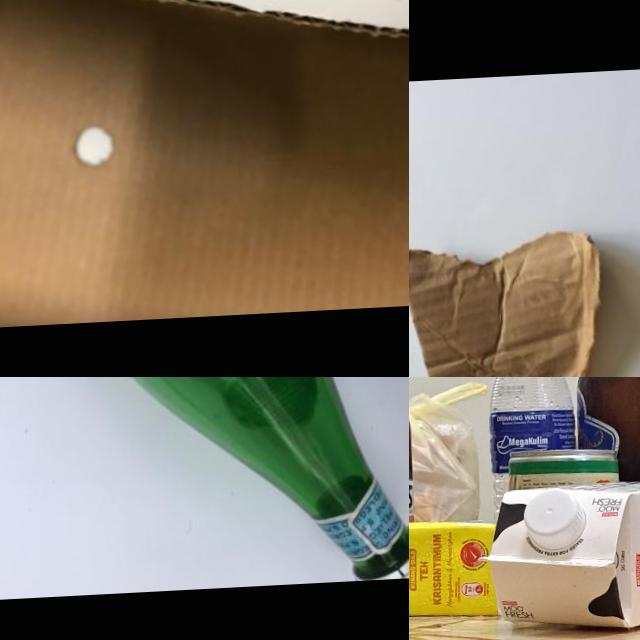caixinha: (477, 477, 640, 636), (409, 516, 501, 626)
garrafa de vidro: (0, 377, 409, 601), (566, 377, 640, 485)
garrafa plástica: (485, 377, 577, 513)
lata: (508, 445, 620, 490)
papelão: (0, 0, 409, 338), (409, 229, 612, 377)
tampa plástica: (522, 488, 586, 550)
